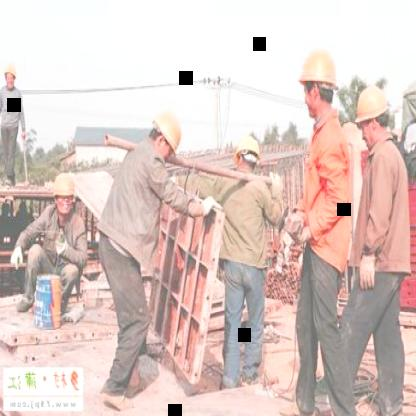helmet: (294, 41, 340, 127), (352, 81, 392, 148), (146, 104, 188, 167), (232, 134, 264, 178), (50, 172, 78, 217), (2, 63, 18, 91)
